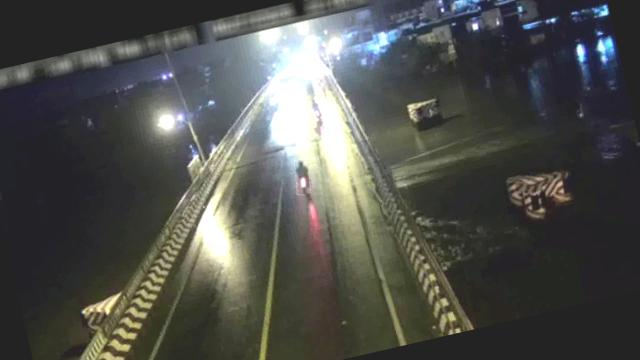Bike: (292, 158, 314, 195), (306, 96, 324, 122), (303, 78, 316, 100)
